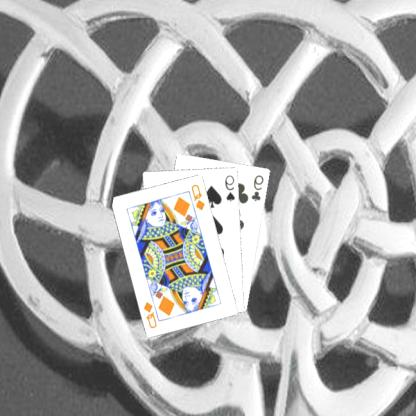9C: (250, 172, 267, 203)
9S: (224, 172, 238, 203)
QD: (190, 181, 209, 212), (142, 298, 160, 330)
